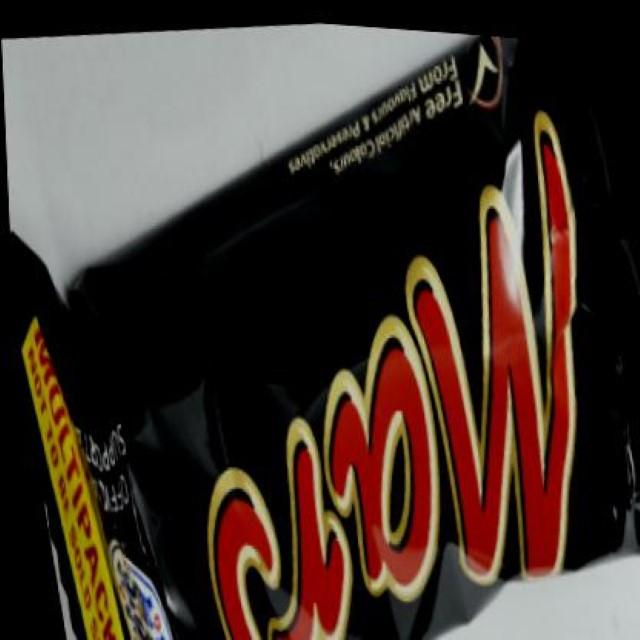mars_chocolate: (110, 43, 585, 640)
